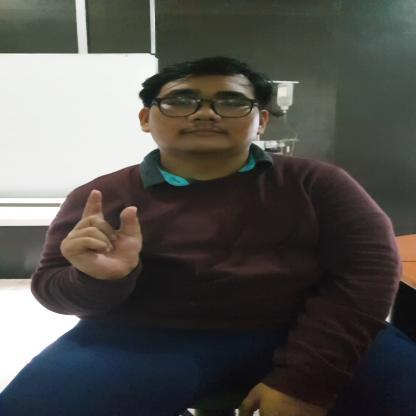U: (58, 188, 146, 278)
